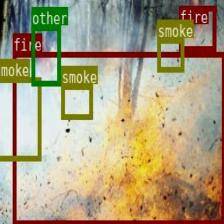fire: (12, 51, 224, 223), (178, 5, 216, 50)
smoke: (0, 77, 41, 159), (61, 83, 92, 119), (156, 37, 183, 71)
